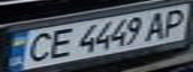4: (75, 21, 100, 54), (109, 16, 133, 48), (93, 19, 115, 52)
9: (124, 13, 151, 46)
A: (142, 9, 175, 42)
C: (18, 29, 57, 64)
E: (42, 26, 78, 60)
P: (157, 6, 193, 38)
